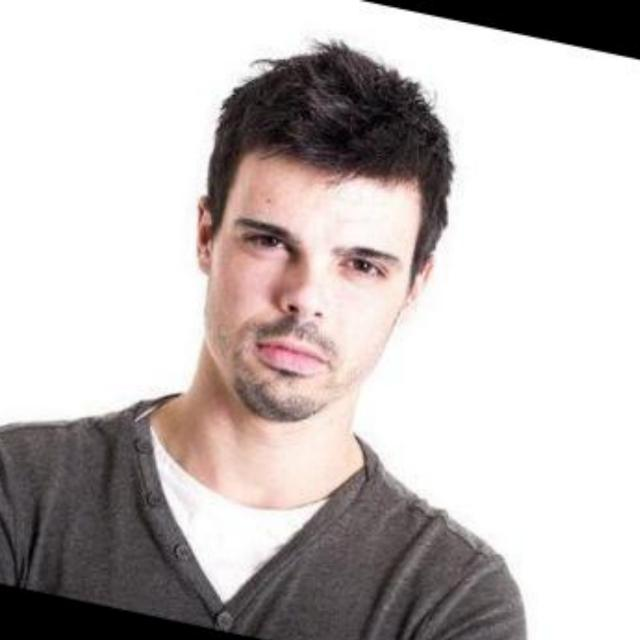Natural: (188, 100, 442, 415)
